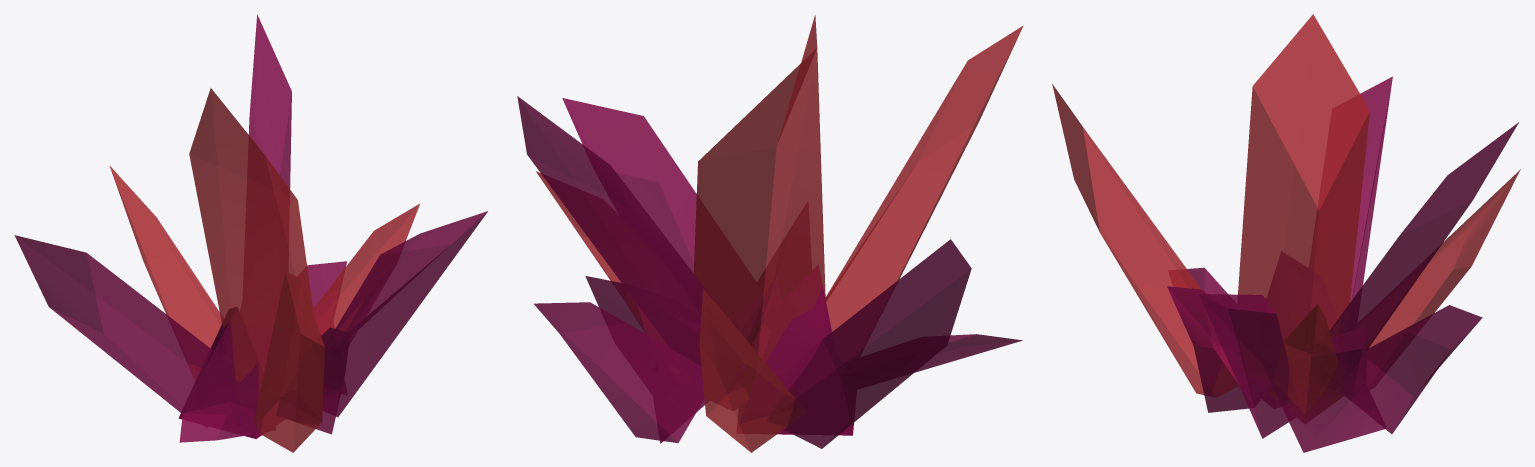
The model's file is Shards04.fbx.
3 views of the same model, side by side, from view 1: azimuth 30°, elevation 25°; view 2: azimuth 150°, elevation 25°; view 3: azimuth 270°, elevation 25° (orthographic). The views are drawn at different scales.
Visible parts, largest first — view 1: polySurface52; view 2: polySurface52; view 3: polySurface52.
Part boxes in pixels (x1,y1,x2,y2): polySurface52: (14,14,487,452); polySurface52: (517,15,1023,452); polySurface52: (1052,14,1520,452).
Bounding box in the file's own units: 17.57 × 14.24 × 16.37.
